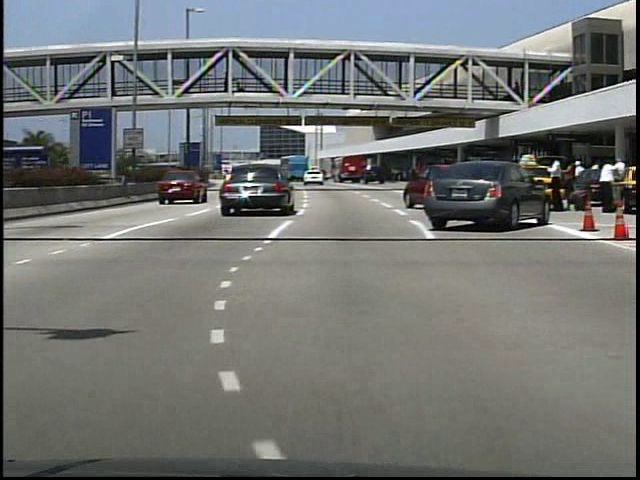person: (542, 154, 565, 215), (594, 159, 618, 212), (570, 159, 588, 211), (220, 70, 233, 95)
